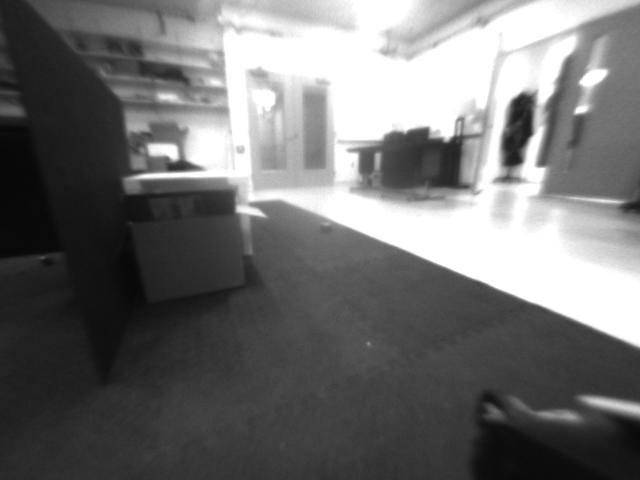dogtoy: (308, 215, 341, 238)
